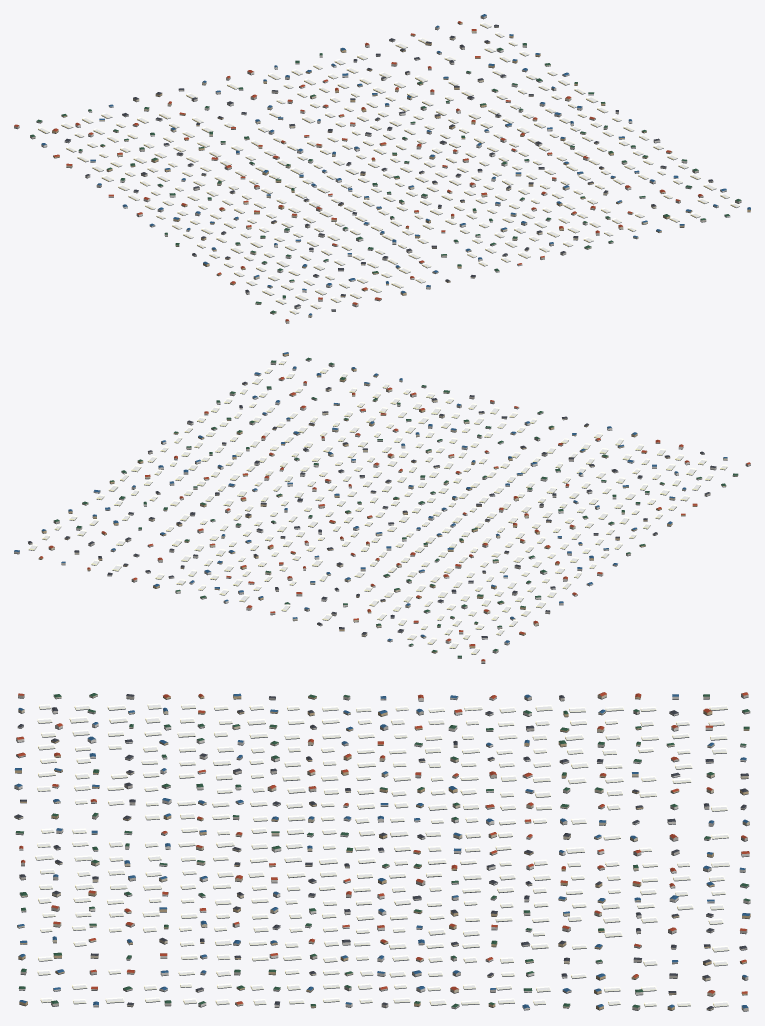
File: buildings_T_W03_S02.glb
3 renders of one model, top to bottom at view 1: azimuth 30°, elevation 25°; view 2: azimuth 150°, elevation 25°; view 3: azimuth 270°, elevation 25°, orthographic. The views are drawn at different scales.
Parts seen in each view (by area): view 1: T_W03_S02_roofs_agri_greenhouse_arch, T_W03_S02_slope_seating_foundations, T_W03_S02_walls_wall_modern_warm_white, T_W03_S02_roofs_roof_highland_blue_gable, T_W03_S02_walls_wall_pastel_sand_gray, T_W03_S02_roofs_roof_pine_green_hip, T_W03_S02_roofs_roof_slate_French_villa_hip, T_W03_S02_roofs_roof_terracotta_gable, T_W03_S02_walls_wall_french_ochre_villa, T_W03_S02_walls_wall_dalat_cream_stucco; view 2: T_W03_S02_roofs_agri_greenhouse_arch, T_W03_S02_slope_seating_foundations, T_W03_S02_walls_wall_modern_warm_white, T_W03_S02_roofs_roof_highland_blue_gable, T_W03_S02_walls_wall_pastel_sand_gray, T_W03_S02_roofs_roof_pine_green_hip, T_W03_S02_roofs_roof_slate_French_villa_hip, T_W03_S02_roofs_roof_terracotta_gable, T_W03_S02_walls_wall_french_ochre_villa, T_W03_S02_walls_wall_dalat_cream_stucco; view 3: T_W03_S02_roofs_agri_greenhouse_arch, T_W03_S02_slope_seating_foundations, T_W03_S02_walls_wall_modern_warm_white, T_W03_S02_roofs_roof_highland_blue_gable, T_W03_S02_walls_wall_pastel_sand_gray, T_W03_S02_roofs_roof_pine_green_hip, T_W03_S02_roofs_roof_slate_French_villa_hip, T_W03_S02_roofs_roof_terracotta_gable, T_W03_S02_walls_wall_french_ochre_villa, T_W03_S02_walls_wall_dalat_cream_stucco.
Part boxes in pixels (left/top/right/bottom): T_W03_S02_roofs_agri_greenhouse_arch: left=38, top=22, right=739, bottom=313; T_W03_S02_slope_seating_foundations: left=14, top=17, right=750, bottom=323; T_W03_S02_walls_wall_modern_warm_white: left=41, top=49, right=730, bottom=308; T_W03_S02_roofs_roof_highland_blue_gable: left=41, top=14, right=750, bottom=315; T_W03_S02_walls_wall_pastel_sand_gray: left=14, top=15, right=741, bottom=323; T_W03_S02_roofs_roof_pine_green_hip: left=30, top=43, right=741, bottom=313; T_W03_S02_roofs_roof_slate_French_villa_hip: left=65, top=24, right=713, bottom=310; T_W03_S02_roofs_roof_terracotta_gable: left=14, top=21, right=702, bottom=321; T_W03_S02_walls_wall_french_ochre_villa: left=52, top=22, right=750, bottom=296; T_W03_S02_walls_wall_dalat_cream_stucco: left=66, top=26, right=713, bottom=317; T_W03_S02_roofs_agri_greenhouse_arch: left=28, top=359, right=727, bottom=654; T_W03_S02_slope_seating_foundations: left=14, top=355, right=750, bottom=663; T_W03_S02_walls_wall_modern_warm_white: left=76, top=359, right=716, bottom=646; T_W03_S02_roofs_roof_highland_blue_gable: left=14, top=352, right=727, bottom=642; T_W03_S02_walls_wall_pastel_sand_gray: left=14, top=362, right=750, bottom=663; T_W03_S02_roofs_roof_pine_green_hip: left=54, top=357, right=738, bottom=657; T_W03_S02_roofs_roof_slate_French_villa_hip: left=28, top=381, right=716, bottom=638; T_W03_S02_roofs_roof_terracotta_gable: left=39, top=377, right=750, bottom=661; T_W03_S02_walls_wall_french_ochre_villa: left=38, top=353, right=696, bottom=653; T_W03_S02_walls_wall_dalat_cream_stucco: left=28, top=380, right=737, bottom=638; T_W03_S02_roofs_agri_greenhouse_arch: left=35, top=703, right=729, bottom=1006; T_W03_S02_slope_seating_foundations: left=14, top=696, right=750, bottom=1011; T_W03_S02_walls_wall_modern_warm_white: left=14, top=696, right=750, bottom=1009; T_W03_S02_roofs_roof_highland_blue_gable: left=14, top=693, right=750, bottom=1008; T_W03_S02_walls_wall_pastel_sand_gray: left=15, top=693, right=750, bottom=1011; T_W03_S02_roofs_roof_pine_green_hip: left=15, top=693, right=750, bottom=1007; T_W03_S02_roofs_roof_slate_French_villa_hip: left=14, top=694, right=748, bottom=1009; T_W03_S02_roofs_roof_terracotta_gable: left=16, top=692, right=749, bottom=1004; T_W03_S02_walls_wall_french_ochre_villa: left=15, top=694, right=750, bottom=1010; T_W03_S02_walls_wall_dalat_cream_stucco: left=14, top=694, right=749, bottom=1010.
Size of the model in its own units: 1755 by 30.82 by 1750.
